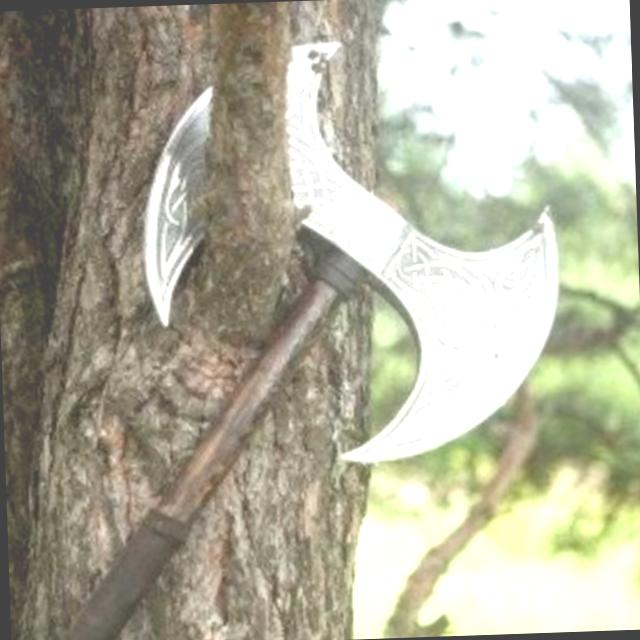ax: (32, 15, 581, 640)
